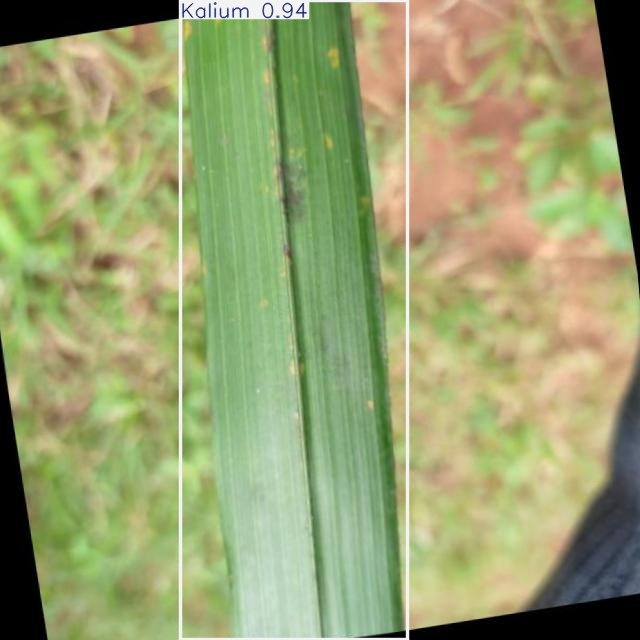Kalium: (180, 0, 407, 640)
